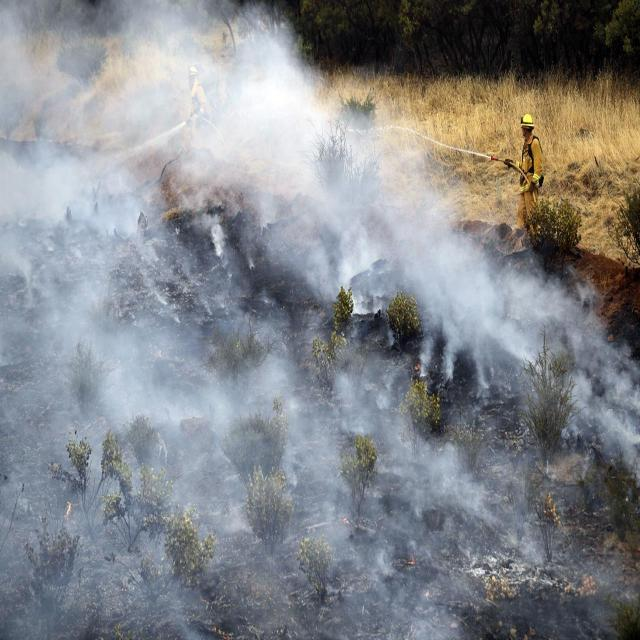Smoke: (0, 0, 299, 640), (302, 374, 470, 637), (308, 106, 470, 348), (488, 269, 634, 478)
